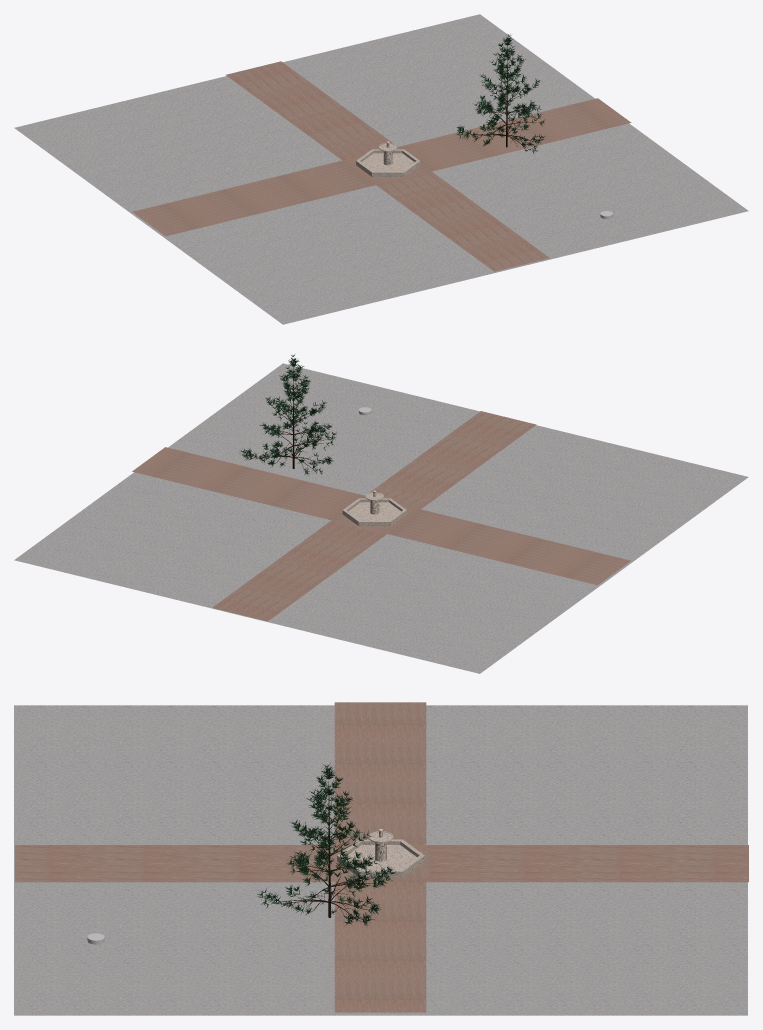
3 views of the same model, one above another, from view 1: azimuth 30°, elevation 25°; view 2: azimuth 150°, elevation 25°; view 3: azimuth 270°, elevation 25° (orthographic). The views are drawn at different scales.
Parts seen in each view (by area): view 1: Plane, Plane.001, Plane.002, PINC2_LEAF, Layer0_001; view 2: Plane, Plane.001, Plane.002, PINC2_LEAF, Layer0_001; view 3: Plane, Plane.001, Plane.002, PINC2_LEAF, Layer0_001.
Part boxes in pixels (x1,y1,x2,y2): Plane: [14, 14, 748, 324]; Plane.001: [132, 98, 631, 236]; Plane.002: [226, 61, 549, 271]; PINC2_LEAF: [456, 34, 544, 153]; Layer0_001: [356, 141, 420, 176]; Plane: [14, 363, 748, 673]; Plane.001: [132, 447, 630, 585]; Plane.002: [212, 411, 536, 621]; PINC2_LEAF: [240, 354, 336, 475]; Layer0_001: [342, 490, 406, 526]; Plane: [14, 705, 747, 1015]; Plane.001: [334, 702, 426, 1012]; Plane.002: [15, 845, 748, 882]; PINC2_LEAF: [257, 763, 396, 925]; Layer0_001: [337, 829, 424, 877].
Size of the model in its own units: 200 by 51.03 by 200.
Materials: 6 (3 with a texture image).
